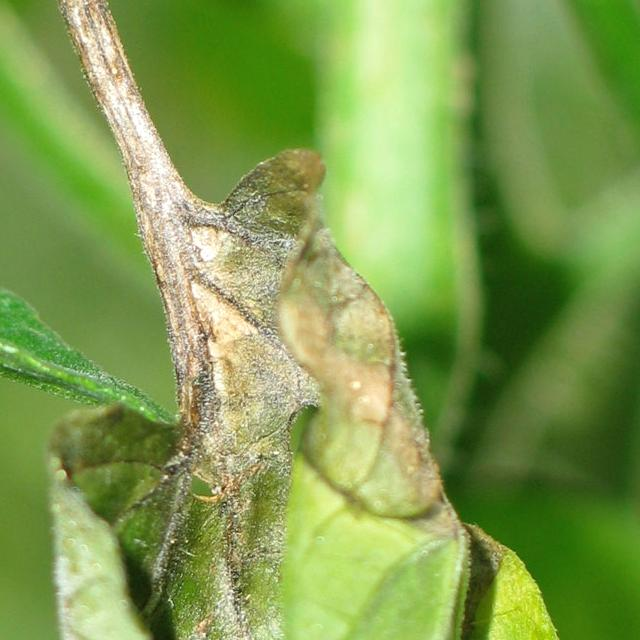Tomato leaf late blight: (0, 97, 640, 640)
